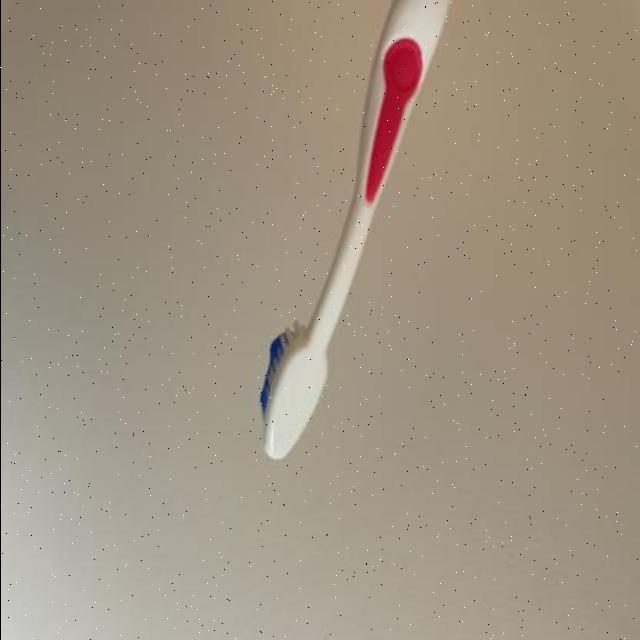toothbrush: (245, 1, 468, 473)
